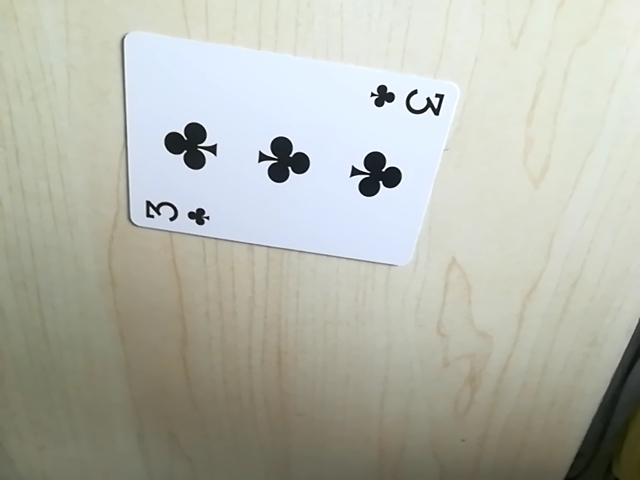mh 3: (368, 80, 446, 120), (135, 195, 216, 229)
